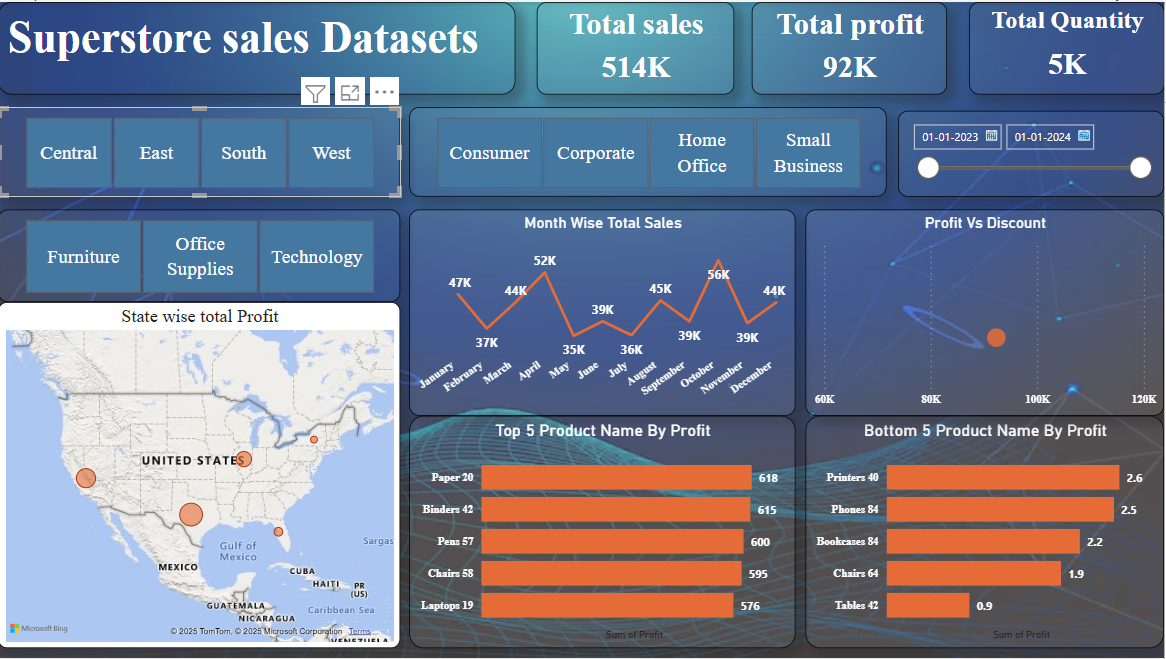

The dashboard page shown, as its layout file describes it:
{"tool":"powerbi","page":{"name":"Page 1","canvas":[1280,720],"ordinal":0},"visuals":[{"type":"textbox","box":[0,0,568.1,101.5],"z":0},{"type":"card","title":"Total sales","fields":{"Values":["Sheet1.Total_sale"]},"box":[591.4,0,216.8,101.5],"z":1000},{"type":"card","title":"Total profit","fields":{"Values":["Sum(Sheet1.Profit)"]},"box":[827.4,0,214.1,101.5],"z":2000},{"type":"card","title":"Total Quantity","fields":{"Values":["Sum(Sheet1.Quantity)"]},"box":[1066.2,0,214.1,101.5],"z":3000},{"type":"slicer","fields":{"Values":["Sheet1.Category"]},"box":[0,227.8,441.9,101.5],"z":4000},{"type":"slicer","fields":{"Values":["Sheet1.Region"]},"box":[0,115.3,441.9,98.8],"z":5000},{"type":"slicer","fields":{"Values":["Sheet1.Customer Segment"]},"box":[451.5,115.3,524.2,98.8],"z":6000},{"type":"slicer","fields":{"Values":["Sheet1.Order Date"]},"box":[988,119.4,292.3,94.7],"z":7000},{"type":"map","title":"State wise total Profit","fields":{"Size":["Sum(Sheet1.Profit)"],"Category":["Sheet1.State"]},"box":[0,329.3,441.9,391.1],"z":8000},{"type":"lineChart","title":"Month Wise Total Sales","fields":{"Category":["Sheet1.Order Date.Variation.Date Hierarchy.Month"],"Y":["Sum(Sheet1.Sales Amount)"]},"box":[451.5,227.8,424,226.4],"z":9000},{"type":"barChart","title":"Top 5 Product Name By Profit","fields":{"Category":["Sheet1.Product Name"],"Y":["Sum(Sheet1.Profit)"]},"box":[451.5,454.2,424,266.2],"z":10000},{"type":"barChart","title":"Bottom  5 Product Name By Profit","fields":{"Category":["Sheet1.Product Name"],"Y":["Sum(Sheet1.Profit)"]},"box":[886.5,454.2,393.8,266.2],"z":11000},{"type":"scatterChart","title":"Profit Vs Discount","fields":{"X":["Sum(Sheet1.Profit)"],"Y":["Sheet1.Discount"]},"box":[886.5,227.8,393.8,226.4],"z":12000}]}

Visuals, with their boxes in screenshot pixels (x1, y1, x2, y2), scaled from the page's 1280x720 canvas onto the 1166x659 screenshot:
textbox: 0,0,518,93
"Total sales" card: 539,0,736,93
"Total profit" card: 754,0,949,93
"Total Quantity" card: 971,0,1165,93
slicer - Sheet1.Category: 0,209,403,301
slicer - Sheet1.Region: 0,106,403,196
slicer - Sheet1.Customer Segment: 411,106,889,196
slicer - Sheet1.Order Date: 900,109,1165,196
"State wise total Profit" map: 0,301,403,658
"Month Wise Total Sales" lineChart: 411,209,798,416
"Top 5 Product Name By Profit" barChart: 411,416,798,658
"Bottom  5 Product Name By Profit" barChart: 808,416,1165,658
"Profit Vs Discount" scatterChart: 808,209,1165,416
